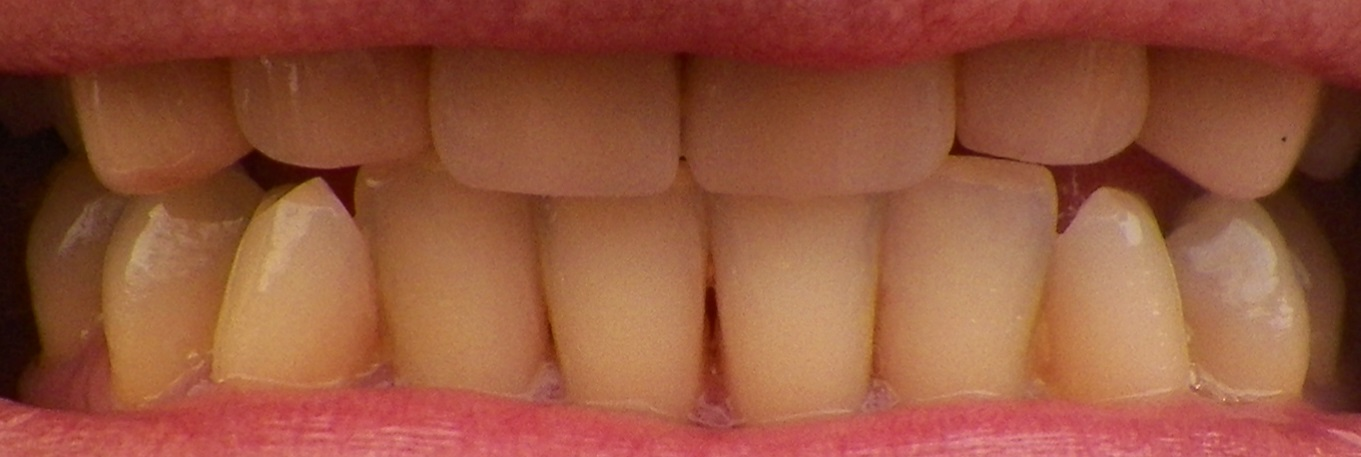boca: (17, 56, 1355, 407)
